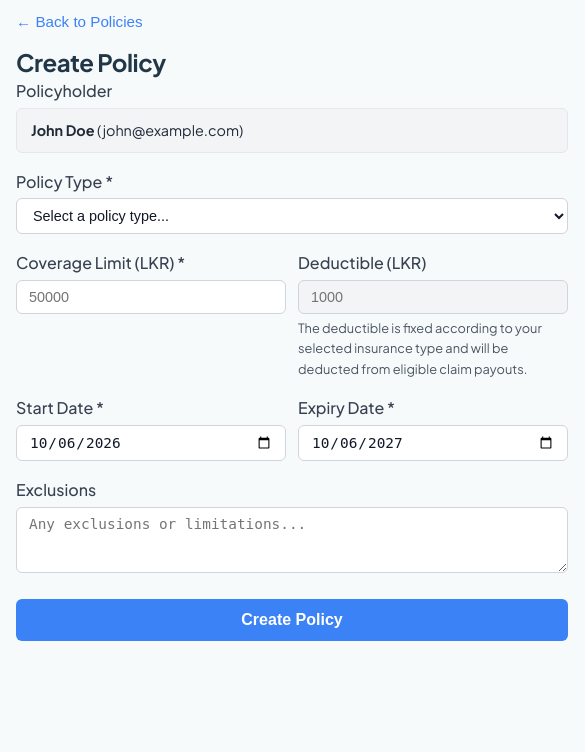
Scenario: PolicyCreate Insurance Class Grouping & Fixed Deductible Rule › displays backend-confirmed deductible upon successful creation
This screenshot has width=585, height=752.
Step 1. Select "Motor Insurance — 5% deductible" in the dropdown → (292, 216), box 16,198 -> 568,234
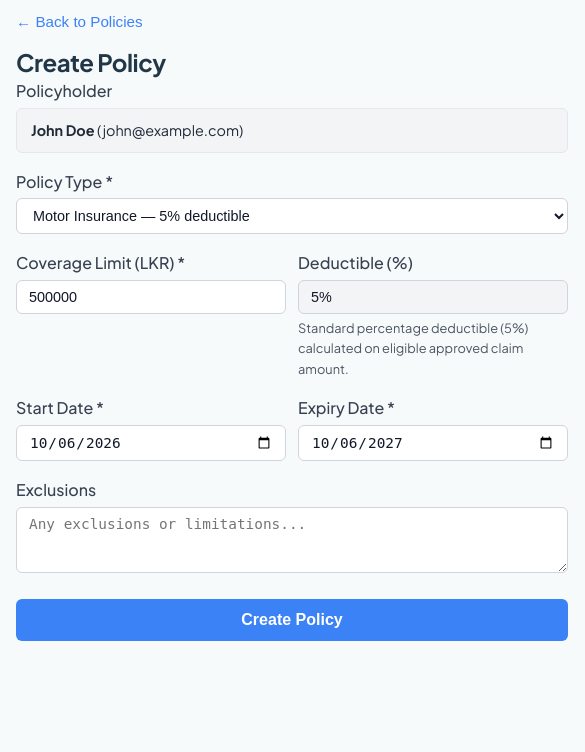
Step 2. Type "2026-11-01" into the date field labelled "Start Date *" → (151, 443), box 16,425 -> 286,461
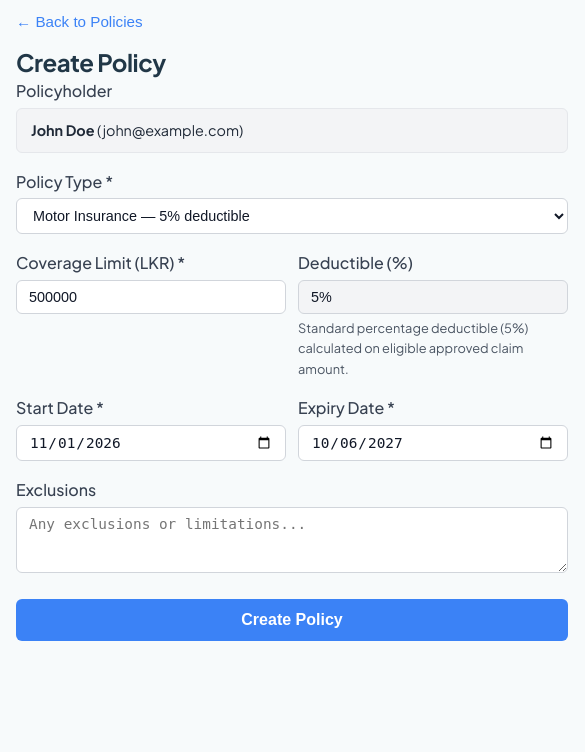
Step 3. Type "2027-11-01" into the date field labelled "Expiry Date *" → (433, 443), box 298,425 -> 568,461
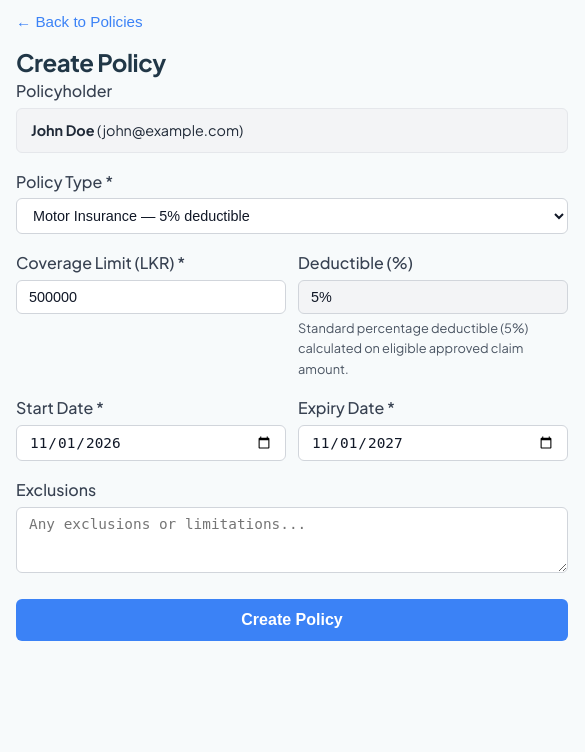
Step 4. Click the button "Create Policy" → (292, 620), box 16,599 -> 568,641
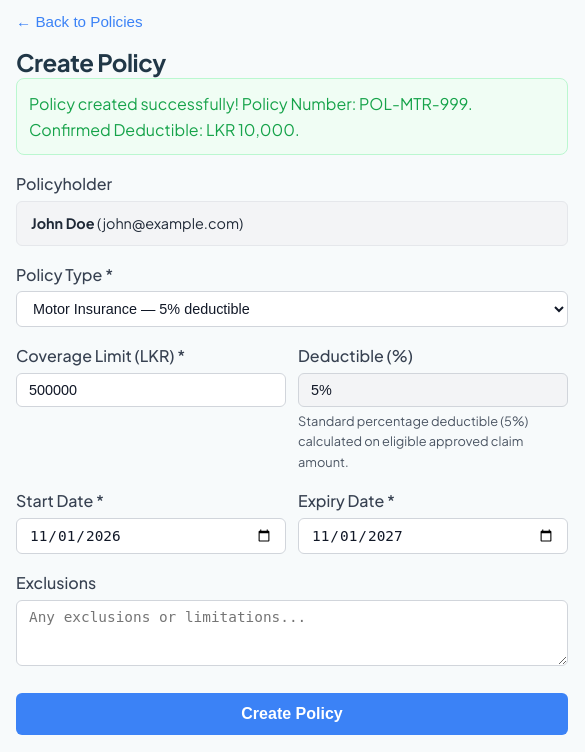
Check: the text "Confirmed Deductible: LKR 10,000" is shown, box 29,93 -> 473,140
